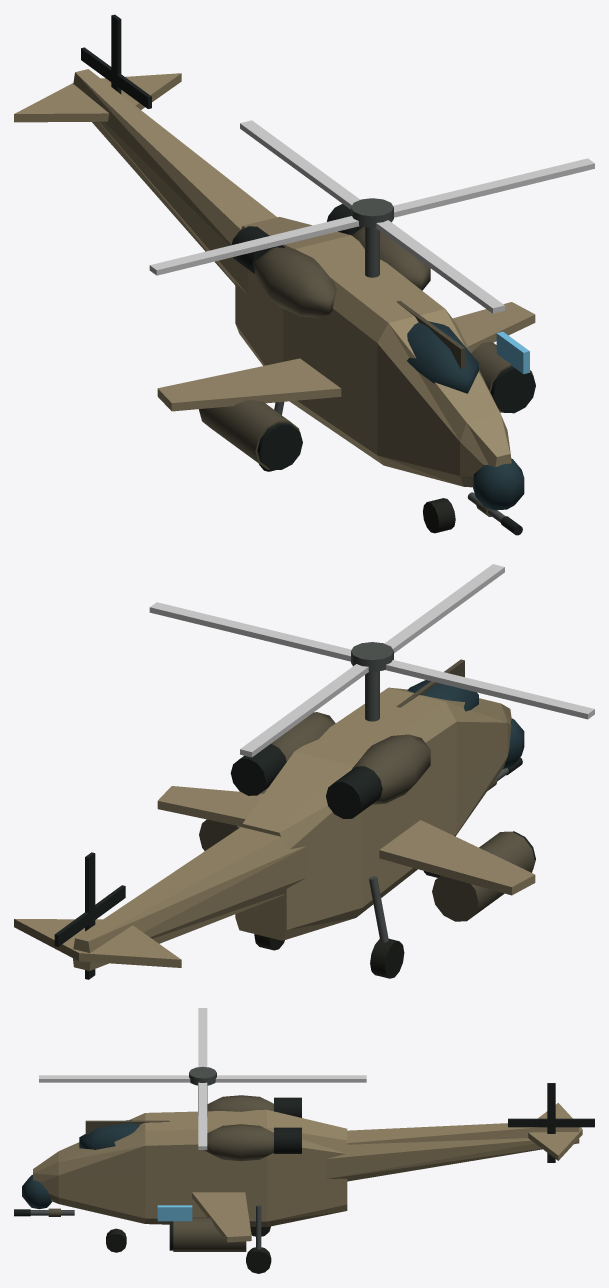
Rendered from casHeli-lod.glb.
3 renders of one model, top to bottom at view 1: azimuth 30°, elevation 25°; view 2: azimuth 150°, elevation 25°; view 3: azimuth 270°, elevation 25°, orthographic. The views are drawn at different scales.
Visible parts, largest first — view 1: equipment (×6), marking; view 2: equipment (×6); view 3: equipment (×6), marking.
Part boxes in pixels (left/top/right/bottom): equipment (×6): left=14, top=14, right=594, bottom=533; marking: left=496, top=331, right=529, bottom=374; equipment (×6): left=14, top=564, right=594, bottom=979; equipment (×6): left=14, top=1008, right=594, bottom=1273; marking: left=157, top=1205, right=192, bottom=1221.
Bounding box in the file's own units: 4.7 × 2.86 × 8.34.
